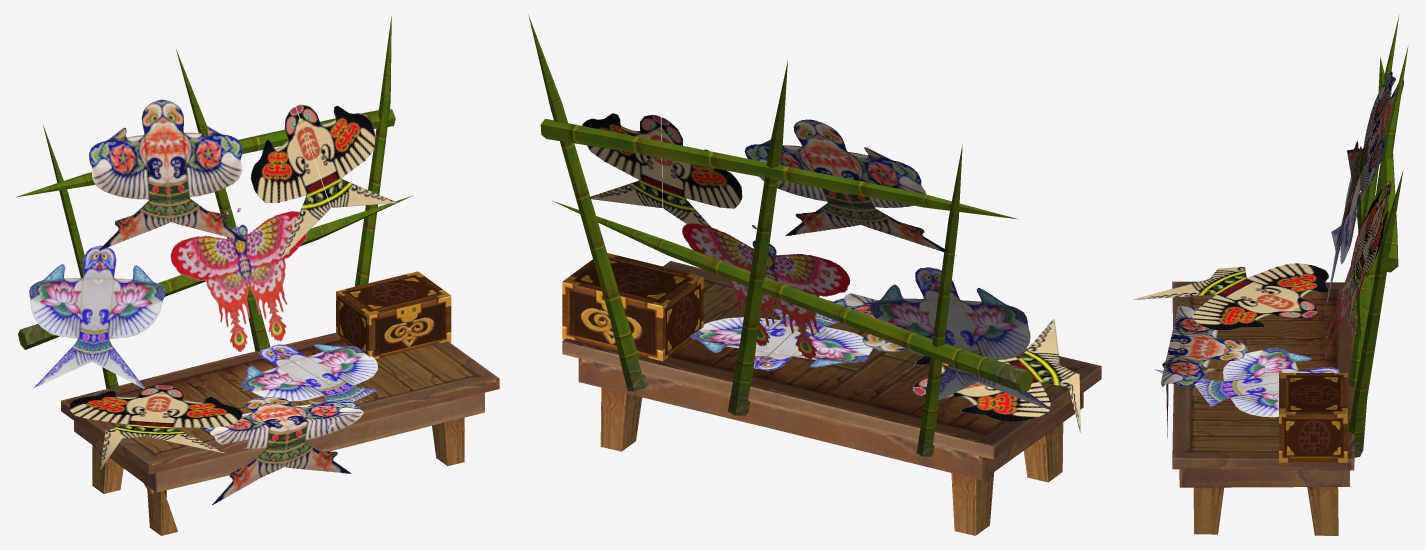
The model's file is szc_object_fengzhengtan.FBX.
3 renders of one model, left to right at view 1: azimuth 30°, elevation 25°; view 2: azimuth 150°, elevation 25°; view 3: azimuth 270°, elevation 25°, orthographic. The views are drawn at different scales.
Parts seen in each view (by area): view 1: szc_object_fengzhengtan; view 2: szc_object_fengzhengtan; view 3: szc_object_fengzhengtan.
Boxes of the visible parts, x1,y1,x2,y2 form: szc_object_fengzhengtan: (16,16,499,535); szc_object_fengzhengtan: (528,15,1101,535); szc_object_fengzhengtan: (1134,15,1408,535).
Bounding box in the file's own units: 360 × 325 × 208.
